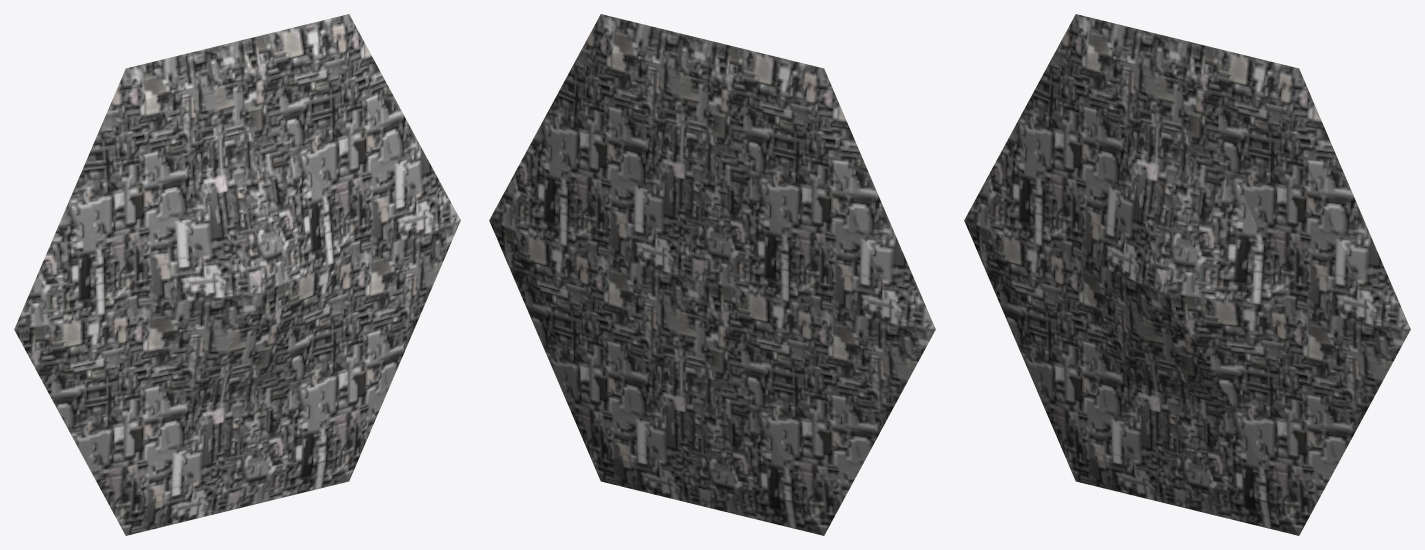
Rendered from ufo3x2x3_wtf.obj.
3 renders of one model, left to right at view 1: azimuth 30°, elevation 25°; view 2: azimuth 150°, elevation 25°; view 3: azimuth 330°, elevation 25°, orthographic.
Visible parts, largest first — view 1: group2; view 2: group2; view 3: group2.
Boxes of the visible parts, <box> form: group2: <box>14,14,460,535</box>; group2: <box>489,14,935,535</box>; group2: <box>964,14,1410,535</box>.
Bounding box in the file's own units: 660 × 660 × 84.23.
